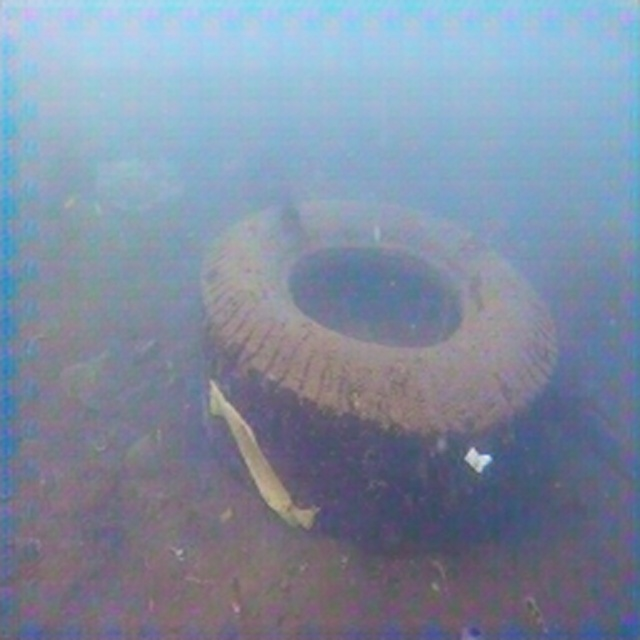mine: (196, 197, 562, 548)
